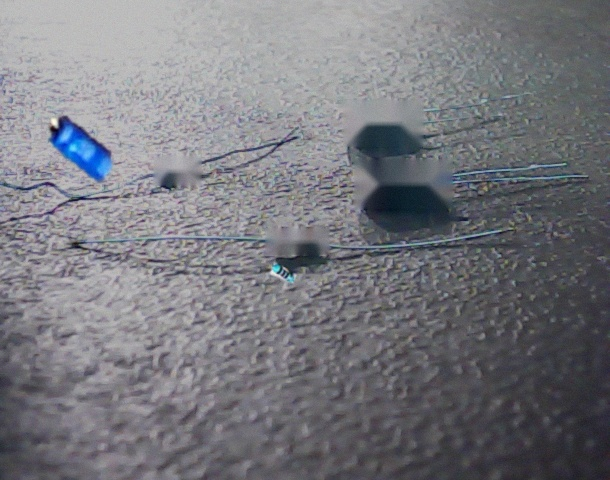capacitor: (49, 116, 112, 183)
resistor: (270, 262, 298, 283)
